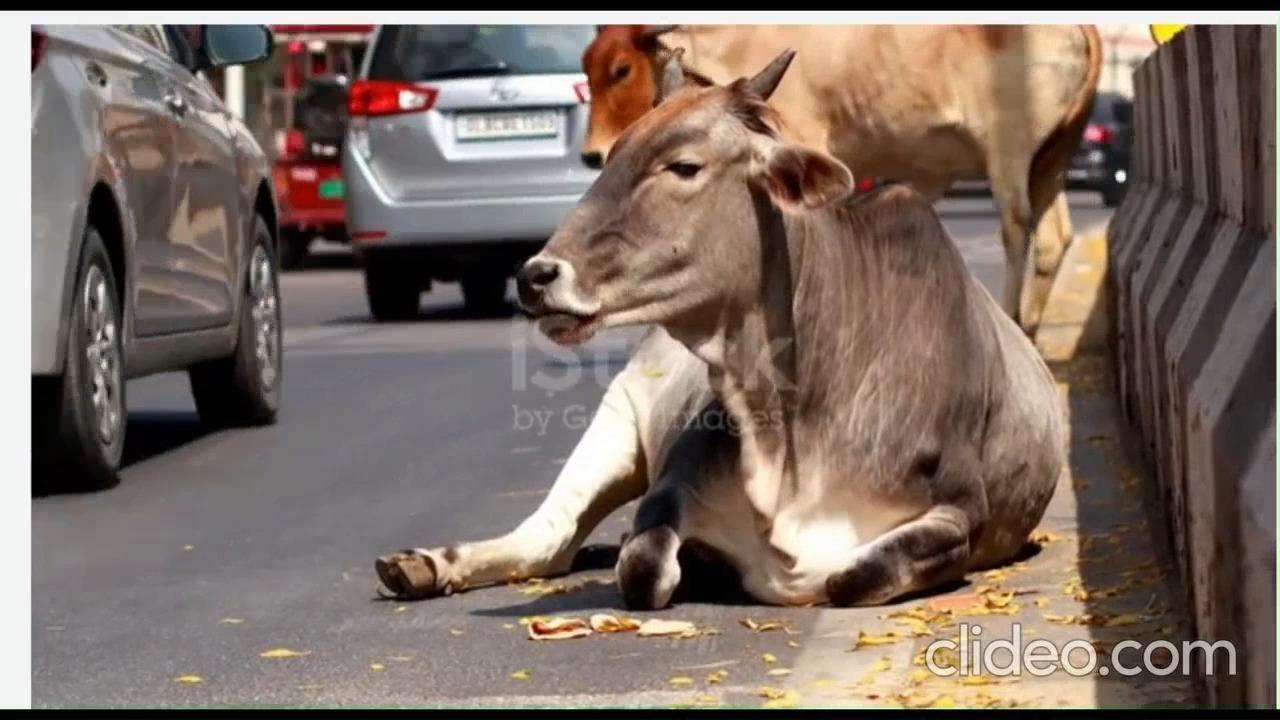Cow: (374, 52, 1068, 603), (576, 12, 1105, 335)
